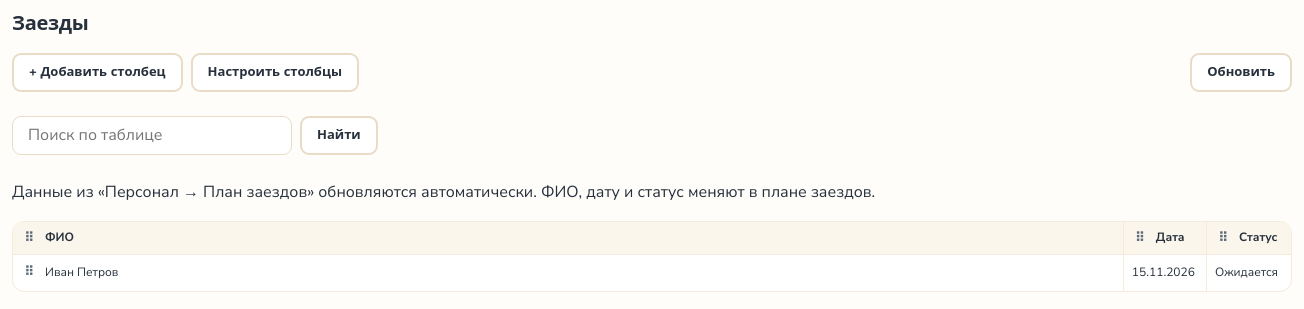
Test: перечитывает актуальный статус, передаёт выбранные даты и убирает ручной ввод
The width and height of the screenshot is (1304, 309).
Expected: the text "Иван Петров" is shown, [13,255,1124,291]
Expected: the text "15.11.2026" is shown, [1124,255,1207,291]
Click the button "Обновить" at (1241, 72), box [1190,53,1292,92]
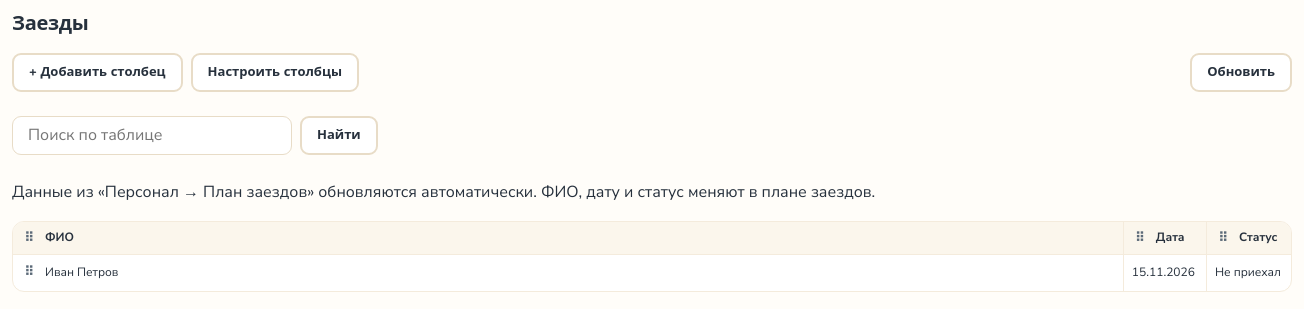
Now the text "Не приехал" is shown, box [1207,255,1291,291]
Now the text "Ожидается" is gone
